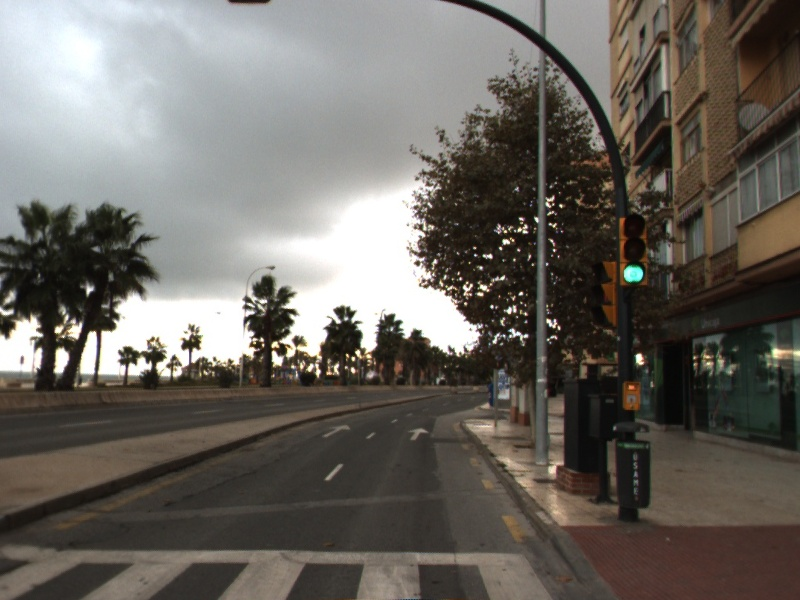STRAIGHT: (320, 422, 352, 439), (406, 426, 431, 442)
